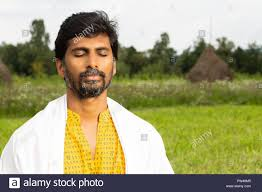Indian_Male: (43, 31, 122, 122)
